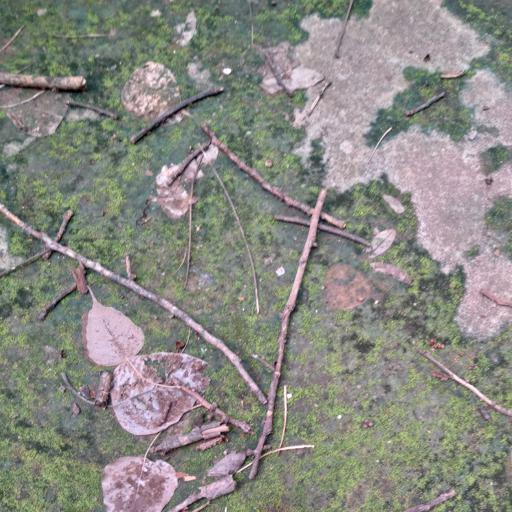algae: (2, 3, 512, 512)
